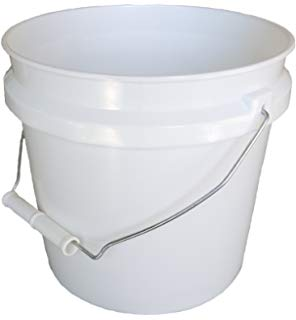Rec_Plastic: (1, 9, 295, 315)
